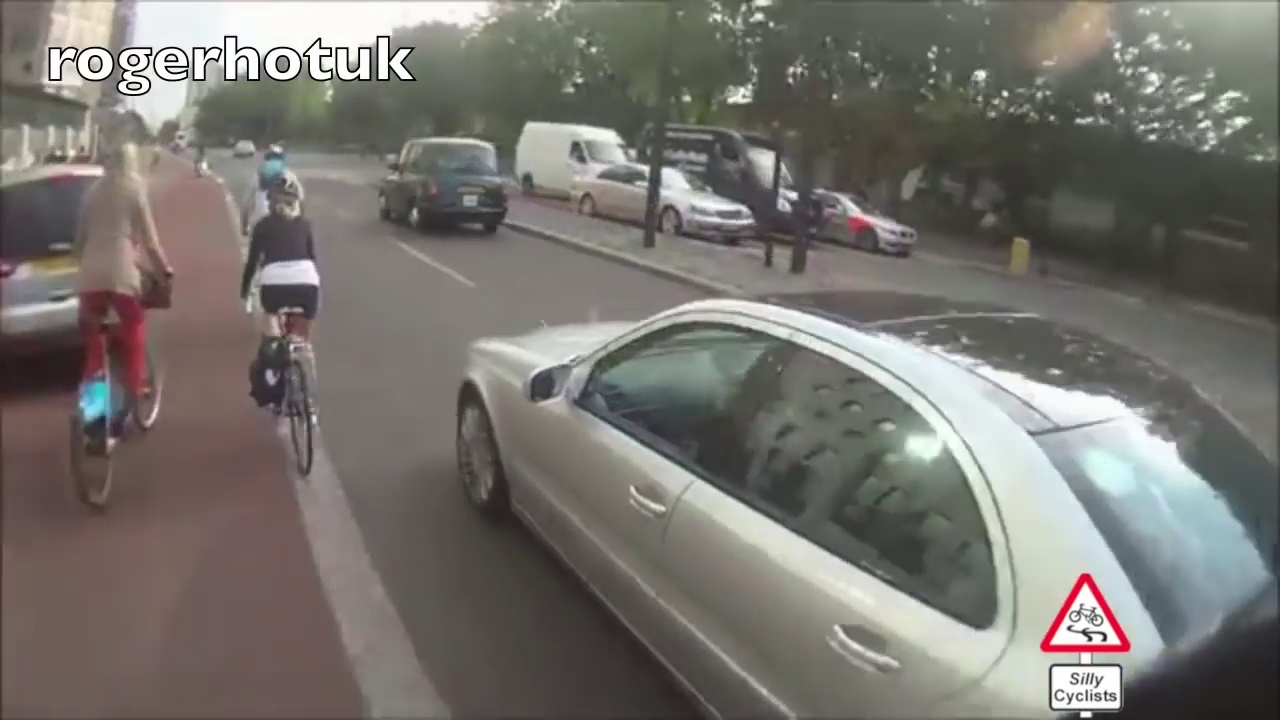cyclist_back: (60, 138, 183, 517), (228, 169, 338, 490)
